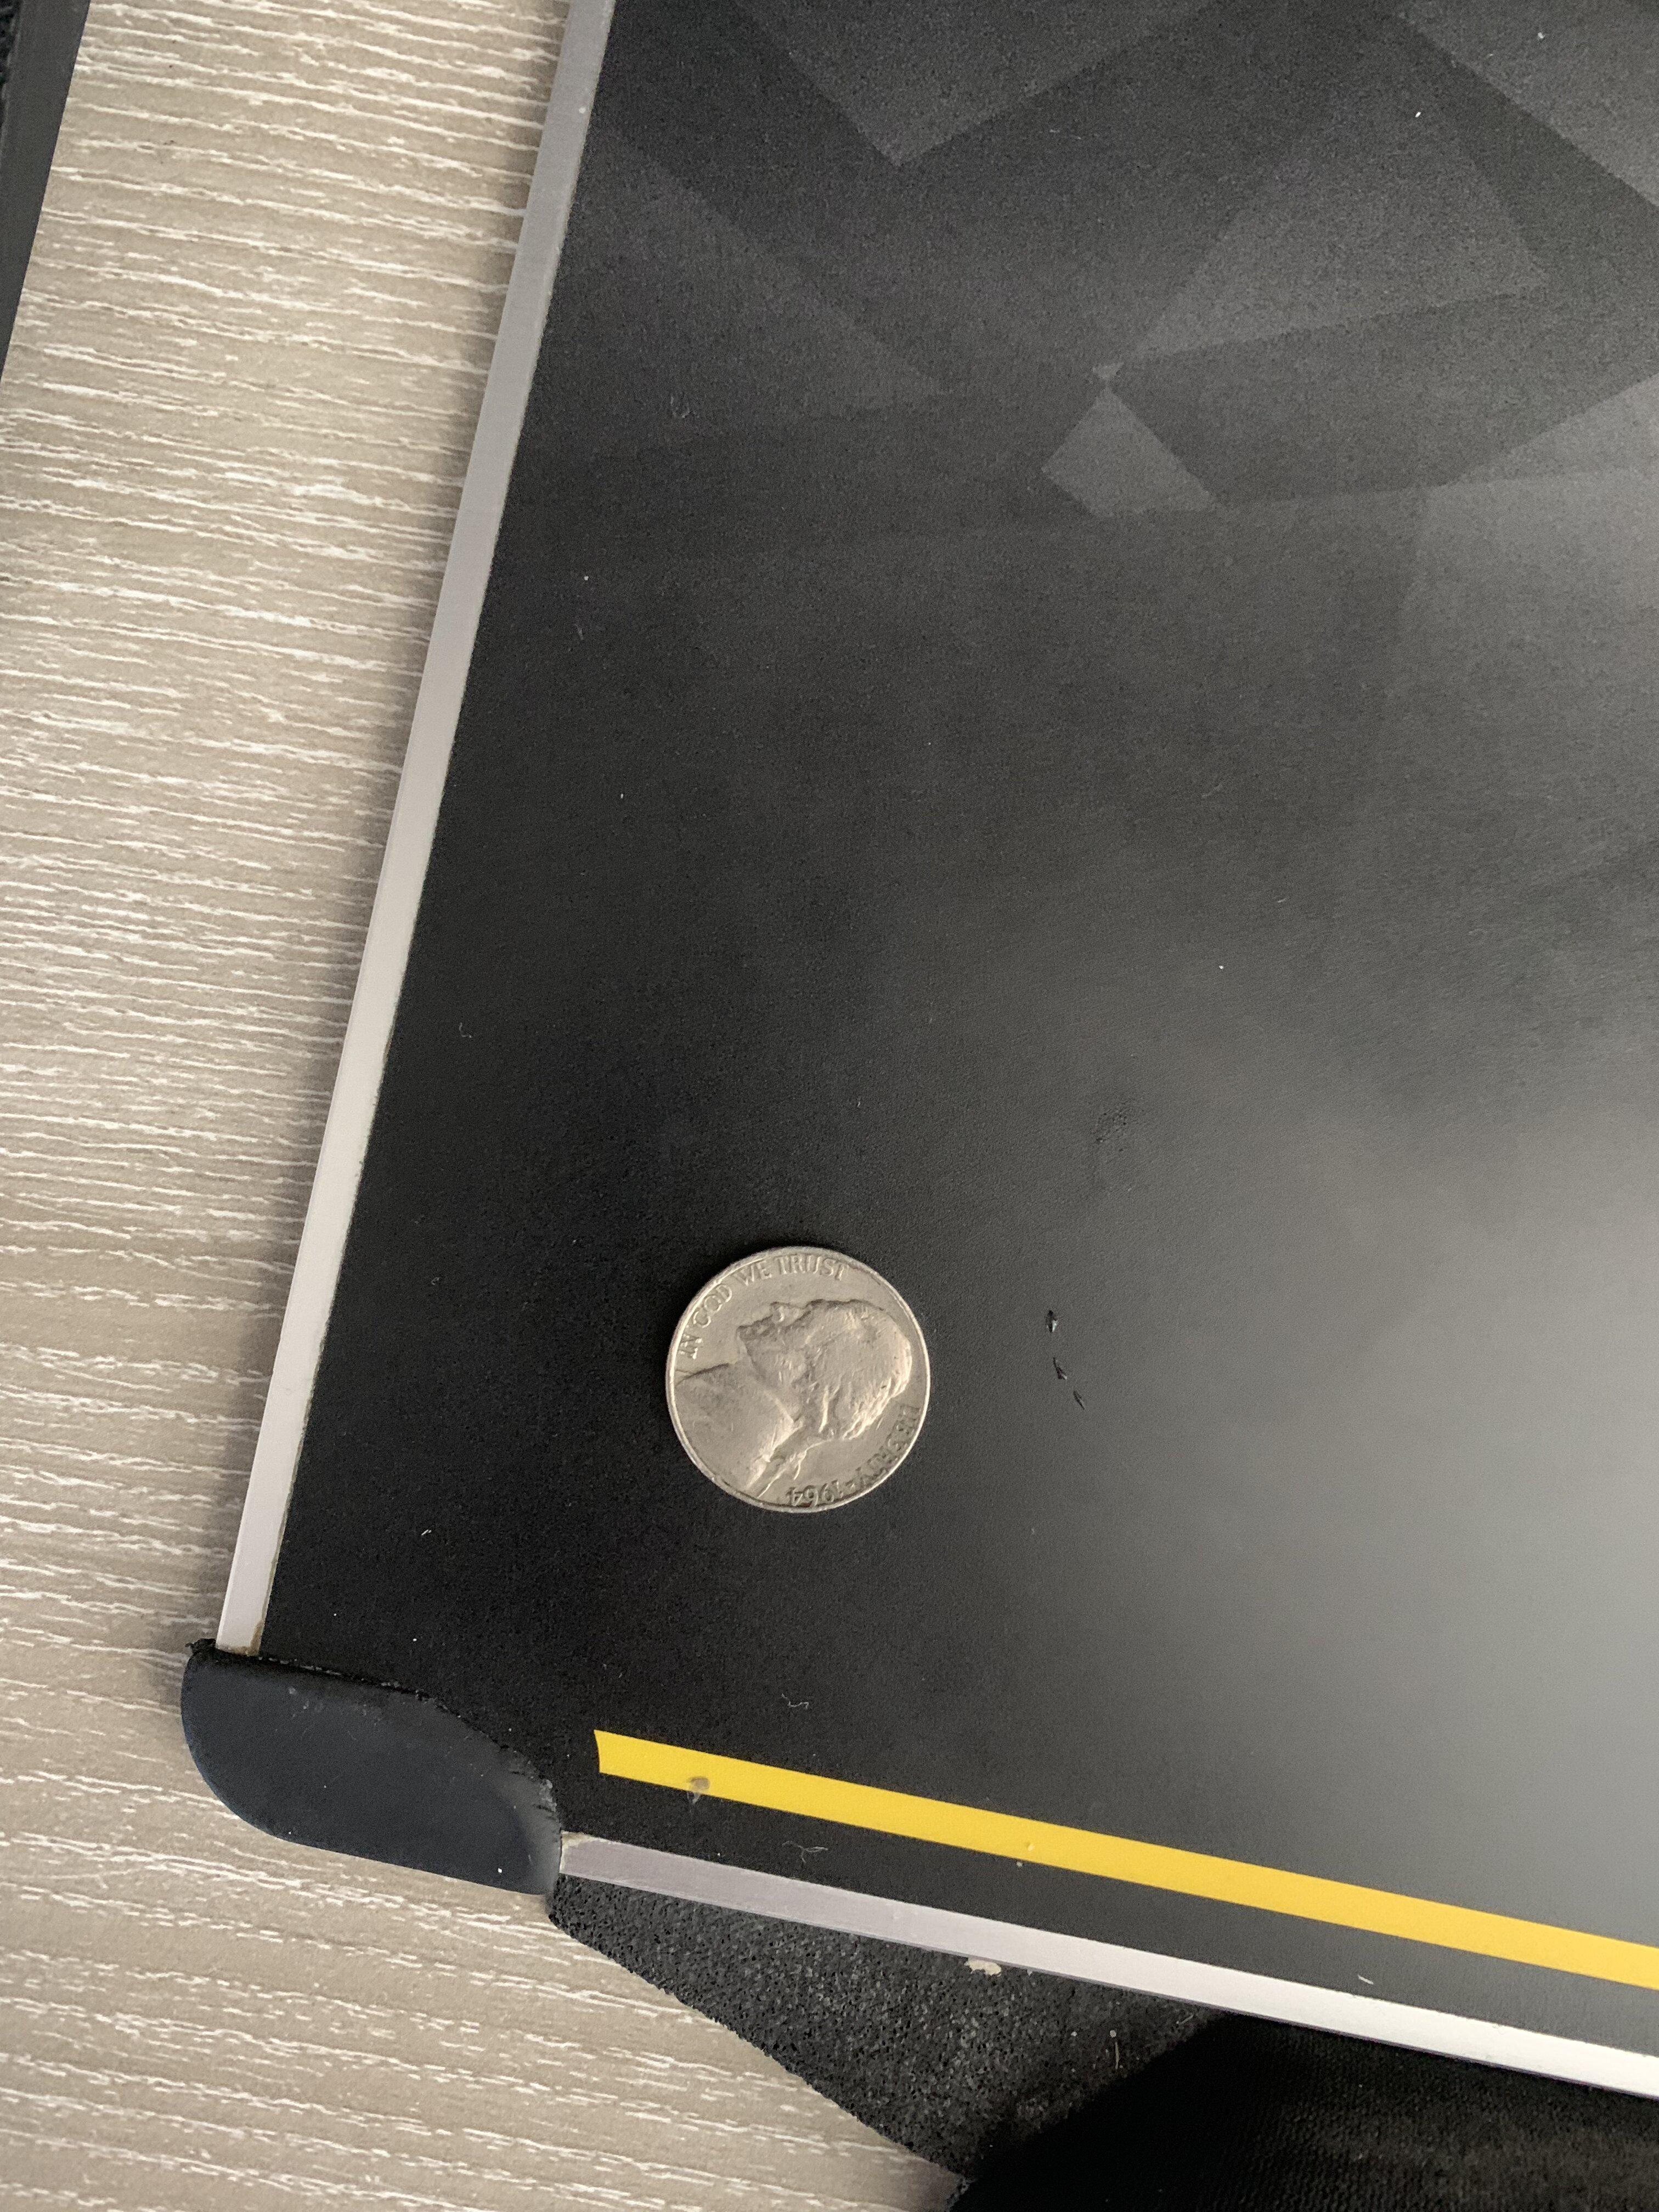Nickel: (584, 1209, 986, 1581)
